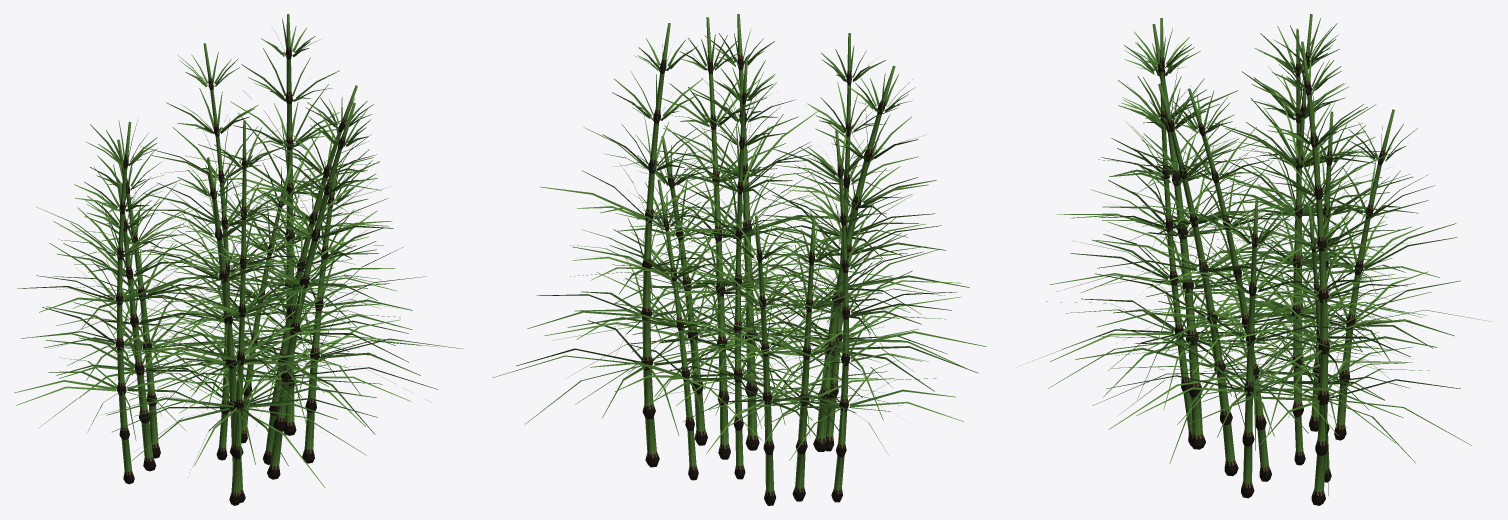
File: horsetail_v01.fbx
3 views of the same model, side by side, from view 1: azimuth 30°, elevation 25°; view 2: azimuth 150°, elevation 25°; view 3: azimuth 270°, elevation 25° (orthographic). The views are drawn at different scales.
Visible parts, largest first — view 1: horsetail_v01; view 2: horsetail_v01; view 3: horsetail_v01.
Boxes of the visible parts, bbox=[...] form: horsetail_v01: bbox=[14, 14, 463, 505]; horsetail_v01: bbox=[492, 14, 986, 505]; horsetail_v01: bbox=[1020, 14, 1492, 505].
Bounding box in the file's own units: 31.22 × 29.77 × 31.43.
Materials: 2 (2 with a texture image).
